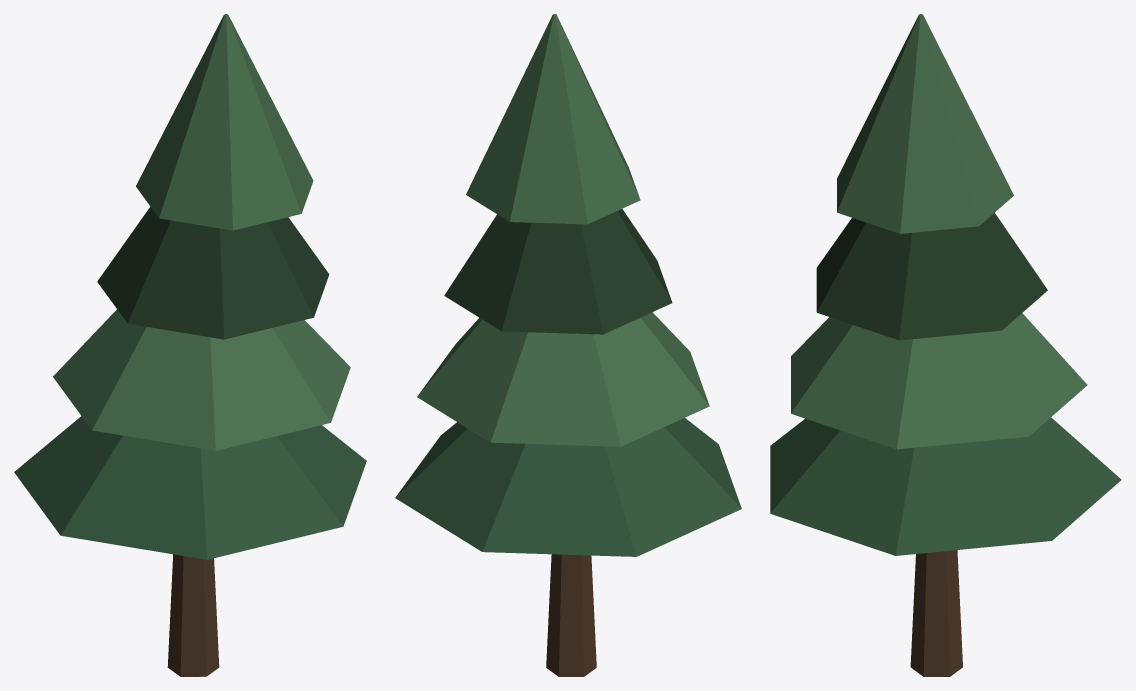
File: pine_valley_3.glb
3 views of the same model, side by side, from view 1: azimuth 30°, elevation 25°; view 2: azimuth 150°, elevation 25°; view 3: azimuth 270°, elevation 25° (orthographic). The views are drawn at different scales.
Parts seen in each view (by area): view 1: pine_valley_3; view 2: pine_valley_3; view 3: pine_valley_3.
Boxes of the visible parts, x1,y1,x2,y2 form: pine_valley_3: [14, 14, 366, 676]; pine_valley_3: [395, 14, 741, 676]; pine_valley_3: [770, 14, 1121, 676].
Size of what is drawn, in the model's own units: 3.16 by 6.43 by 3.08.
